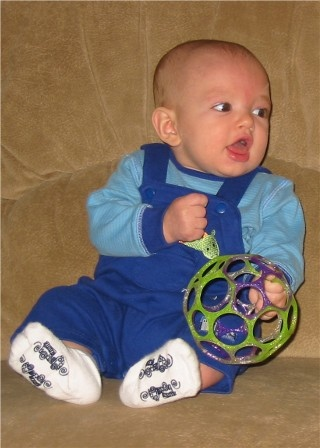head: (152, 39, 273, 178)
person: (15, 36, 298, 421)
